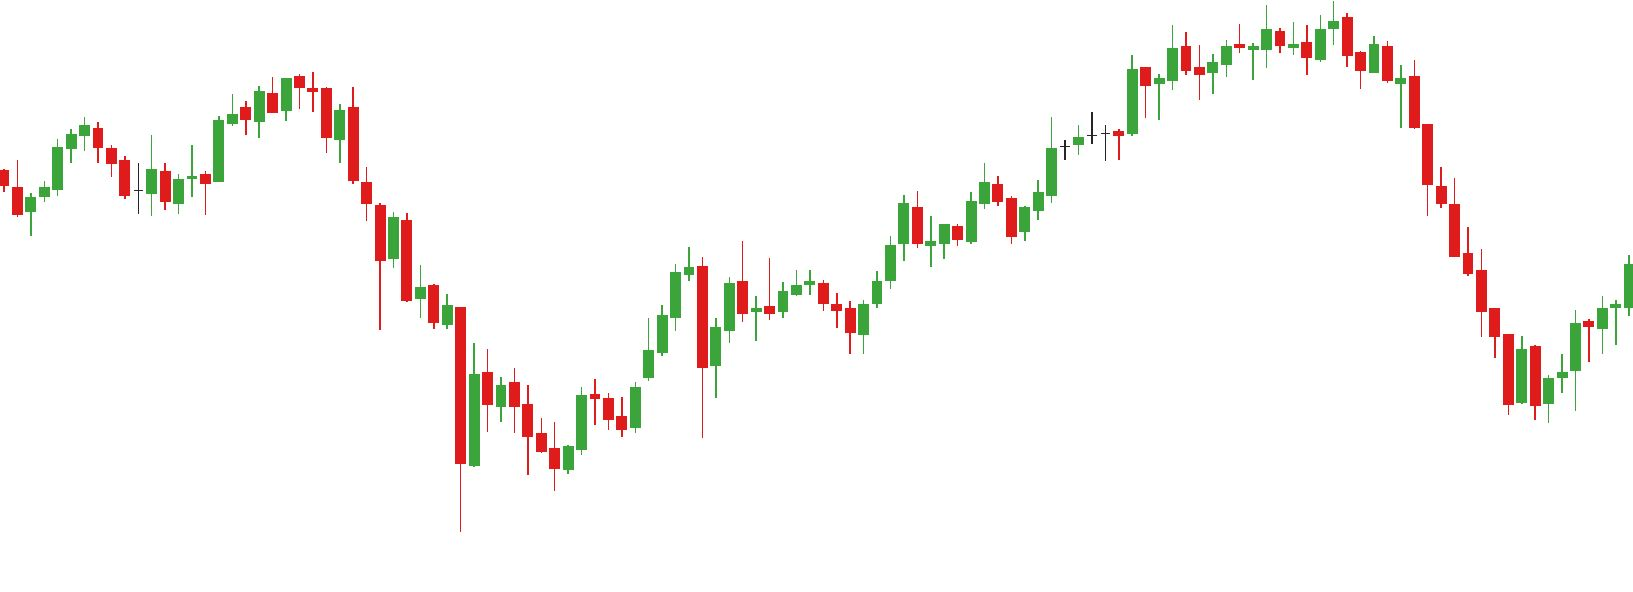buy: (750, 271, 872, 368)
sell: (1257, 1, 1357, 59)
